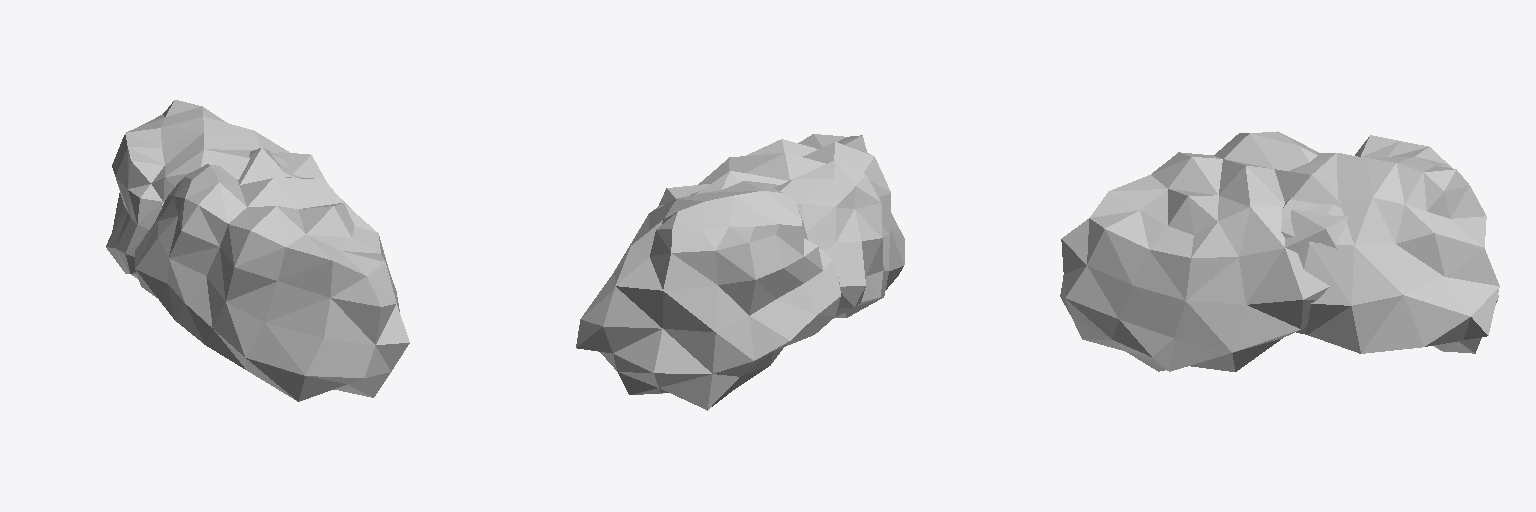
Rendered from CommonTreeStemLeaf.obj.
3 views of the same model, side by side, from view 1: azimuth 30°, elevation 25°; view 2: azimuth 150°, elevation 25°; view 3: azimuth 270°, elevation 25° (orthographic).
Visible parts, largest first — view 1: CommonTree_5_Cube.002; view 2: CommonTree_5_Cube.002; view 3: CommonTree_5_Cube.002.
Boxes of the visible parts, x1=… form: CommonTree_5_Cube.002: x1=106, y1=100, x2=409, y2=401; CommonTree_5_Cube.002: x1=576, y1=134, x2=904, y2=410; CommonTree_5_Cube.002: x1=1060, y1=131, x2=1499, y2=371.
Bounding box in the file's own units: 1.29 × 1.1 × 2.25.